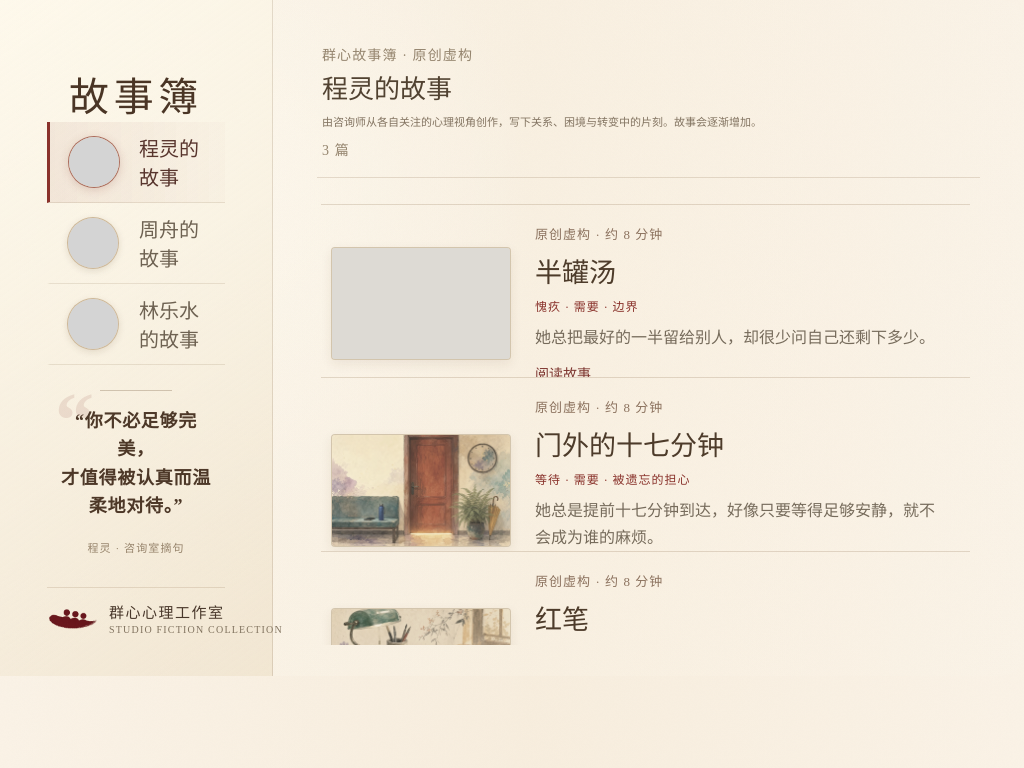
Test: BookcaseFeature › 只展示故事文章，并按咨询师筛选
Expected: the heading "故事簿" is shown, [69,75,203,120]
Expected: the text "群心心理工作室" is shown, [109,605,224,621]
What coordinates should you click on to do the following:
click the button "周舟的故事"
I would click on:
 (136, 244)
Its box is [47,203,225,284].
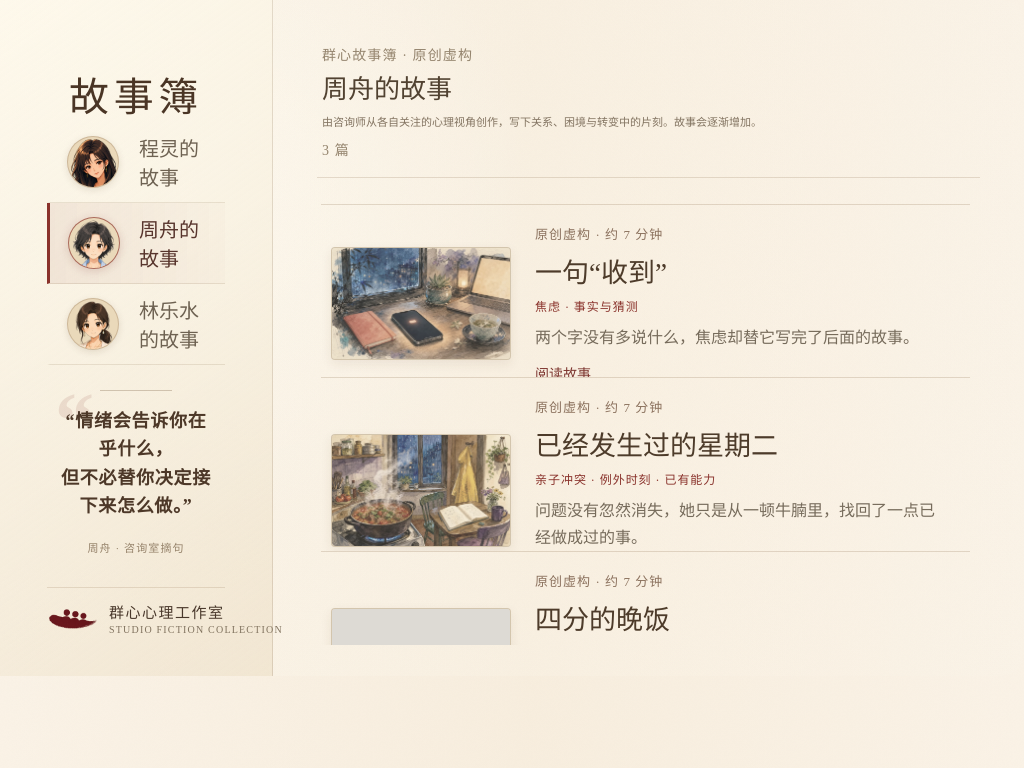
Now the button with aria-label "打开《一句“收到”》" is shown, box [321,204,970,378]
Now the button "打开《半罐汤》" is gone
